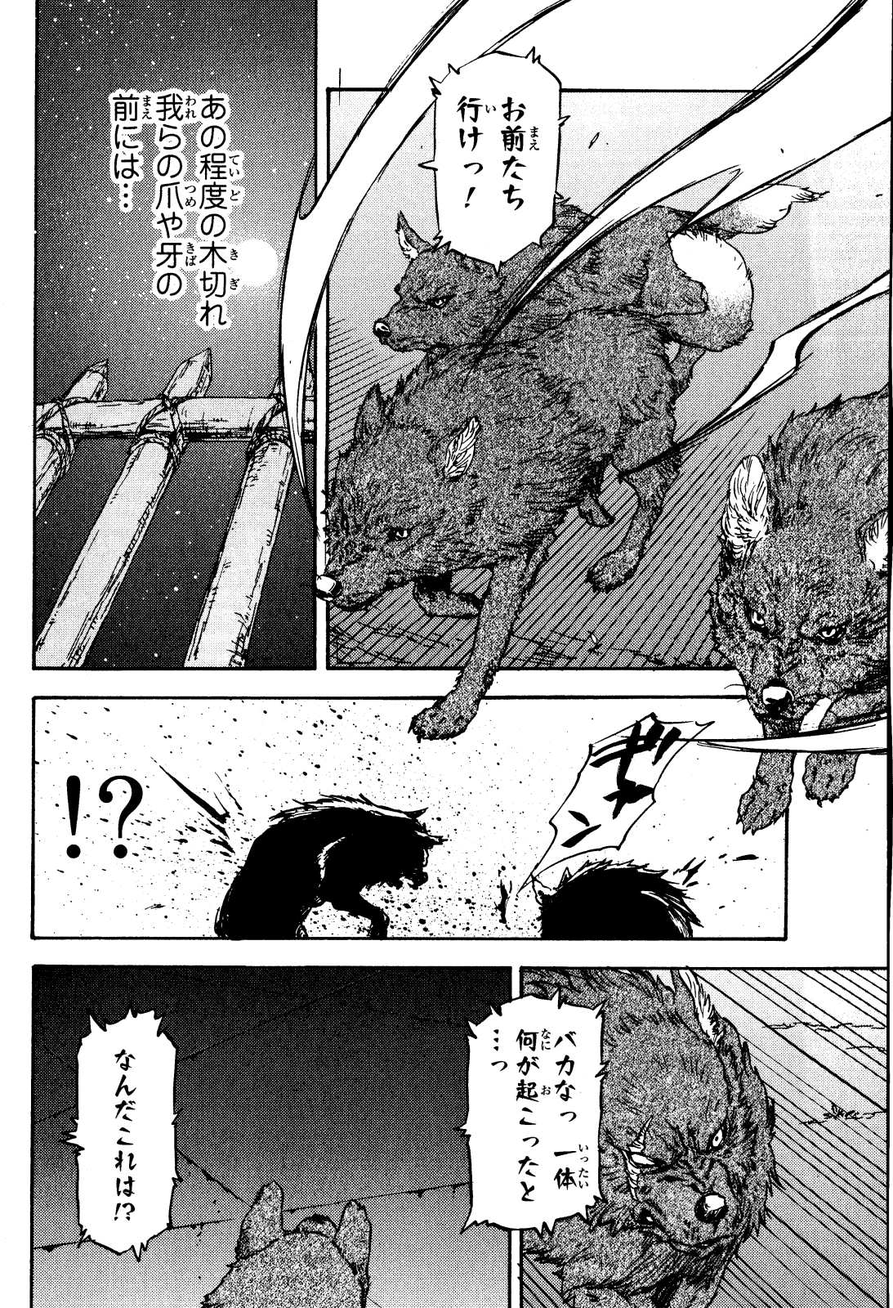bubbles: (450, 981, 608, 1245), (419, 47, 578, 271), (56, 1004, 183, 1270)
